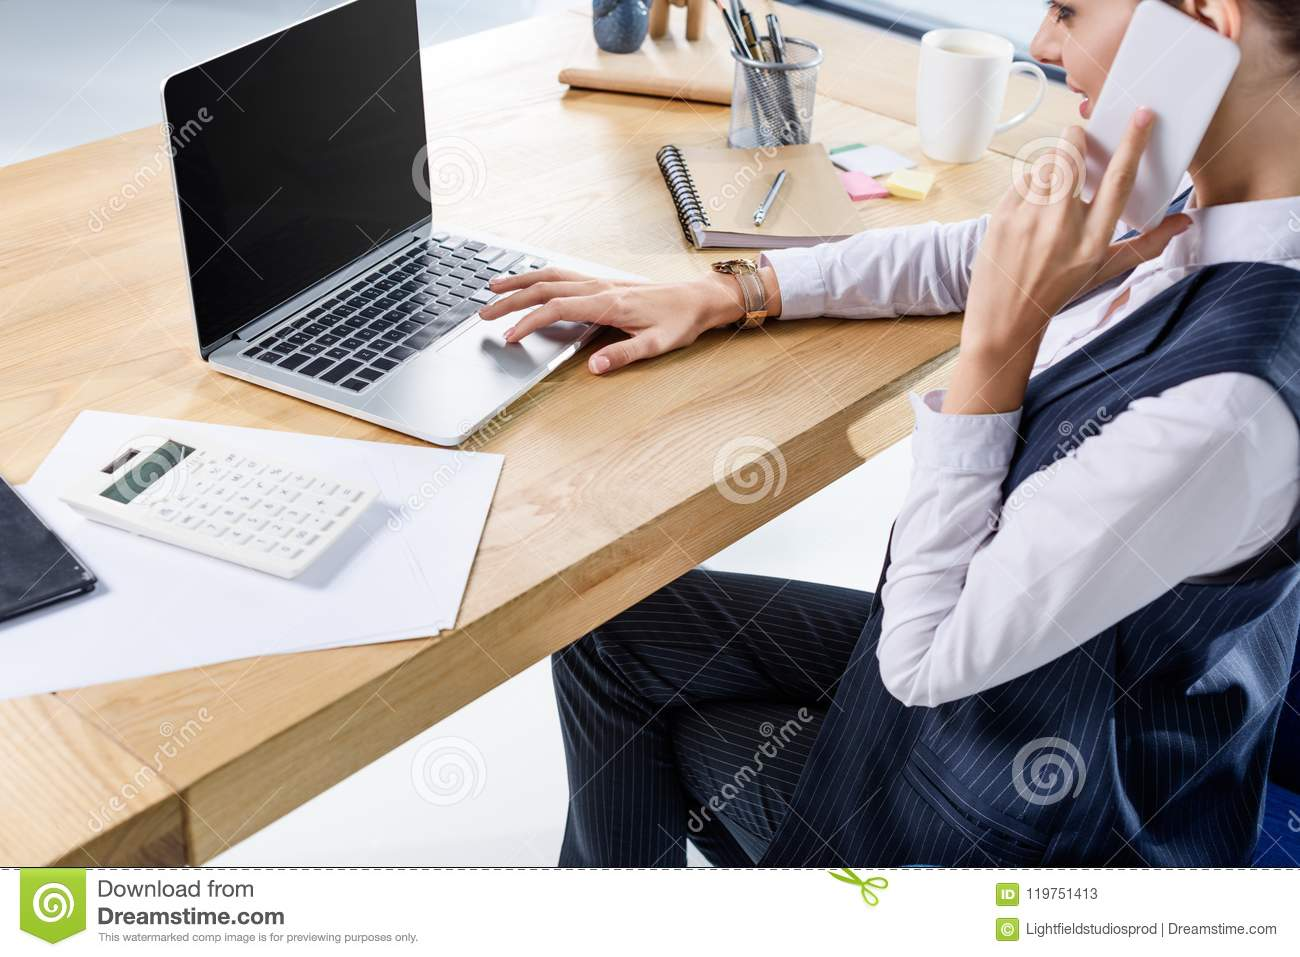phone: (1070, 5, 1241, 249)
